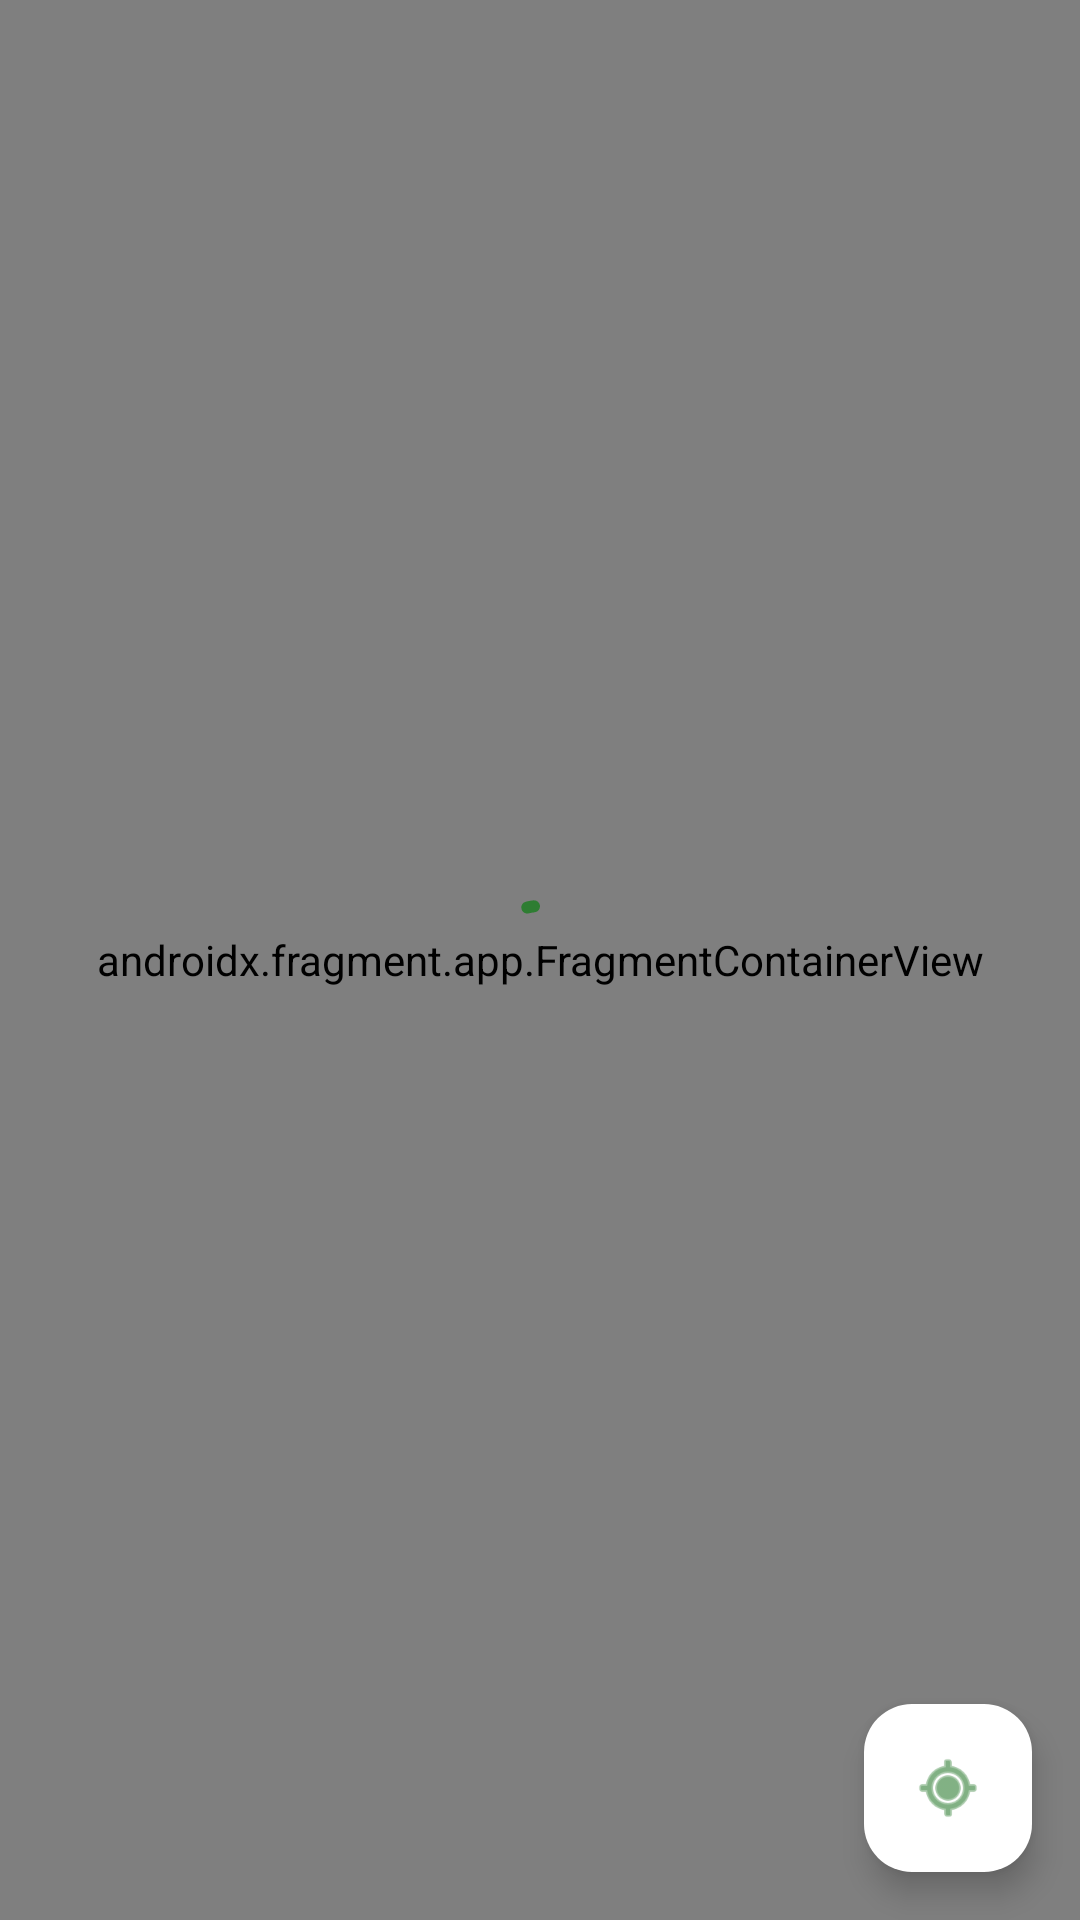

Locate icon controls on the screen. Image size 1080px x 1920px, boxes as (x1, y1, x2, y2).
Centra sulla mia posizione: (864, 1704, 1032, 1872)
